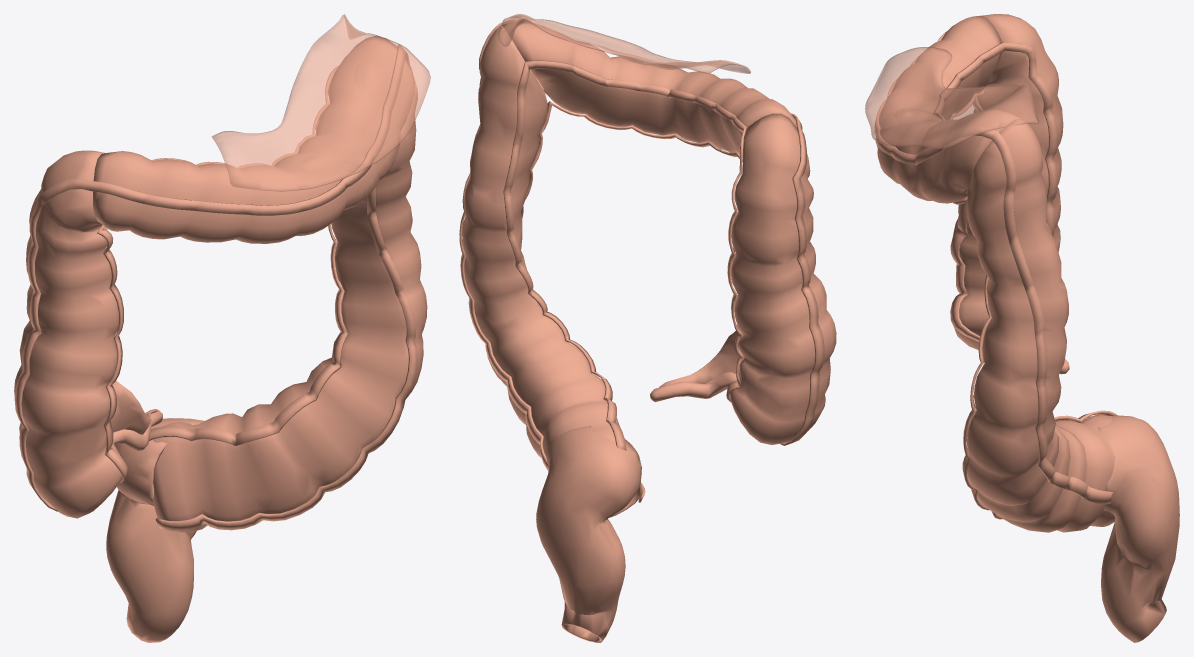
Rendered from intestino-grosso.glb.
3 views of the same model, side by side, from view 1: azimuth 30°, elevation 25°; view 2: azimuth 150°, elevation 25°; view 3: azimuth 270°, elevation 25° (orthographic). The views are drawn at different scales.
Parts seen in each view (by area): view 1: Descending colon, Ascending colon, Transverse colon, Mesocolon, Sigmoid colon, Mesocolic taenia, Omental taenia, Free taenia, Meso-appendix, Vermiform appendix; view 2: Descending colon, Ascending colon, Sigmoid colon, Transverse colon, Free taenia, Mesocolic taenia, Mesocolon, Omental taenia, Vermiform appendix, Meso-appendix; view 3: Descending colon, Transverse colon, Sigmoid colon, Mesocolon, Ascending colon, Mesocolic taenia, Free taenia, Omental taenia.
Part boxes in pixels (x1=…): Descending colon: x1=152, y1=47, x2=427, y2=532; Ascending colon: x1=14, y1=150, x2=122, y2=518; Transverse colon: x1=93, y1=35, x2=414, y2=243; Mesocolon: x1=212, y1=14, x2=430, y2=191; Sigmoid colon: x1=106, y1=418, x2=204, y2=642; Mesocolic taenia: x1=14, y1=44, x2=409, y2=511; Omental taenia: x1=97, y1=186, x2=418, y2=531; Free taenia: x1=149, y1=66, x2=348, y2=446; Meso-appendix: x1=107, y1=380, x2=157, y2=434; Vermiform appendix: x1=113, y1=409, x2=162, y2=450; Descending colon: x1=462, y1=25, x2=641, y2=517; Ascending colon: x1=730, y1=113, x2=836, y2=444; Sigmoid colon: x1=536, y1=426, x2=641, y2=642; Transverse colon: x1=502, y1=22, x2=797, y2=153; Free taenia: x1=503, y1=60, x2=746, y2=450; Mesocolic taenia: x1=459, y1=19, x2=824, y2=470; Mesocolon: x1=498, y1=14, x2=750, y2=73; Omental taenia: x1=521, y1=101, x2=742, y2=502; Vermiform appendix: x1=650, y1=372, x2=736, y2=402; Meso-appendix: x1=659, y1=331, x2=739, y2=387; Descending colon: x1=966, y1=119, x2=1115, y2=532; Transverse colon: x1=877, y1=15, x2=1020, y2=203; Sigmoid colon: x1=1098, y1=415, x2=1179, y2=642; Mesocolon: x1=865, y1=47, x2=1039, y2=148; Ascending colon: x1=952, y1=14, x2=1063, y2=350; Mesocolic taenia: x1=874, y1=31, x2=1112, y2=504; Free taenia: x1=933, y1=42, x2=1117, y2=422; Omental taenia: x1=950, y1=87, x2=1002, y2=519.
Bounding box in the file's own units: 0.2292 × 0.3434 × 0.1585.
